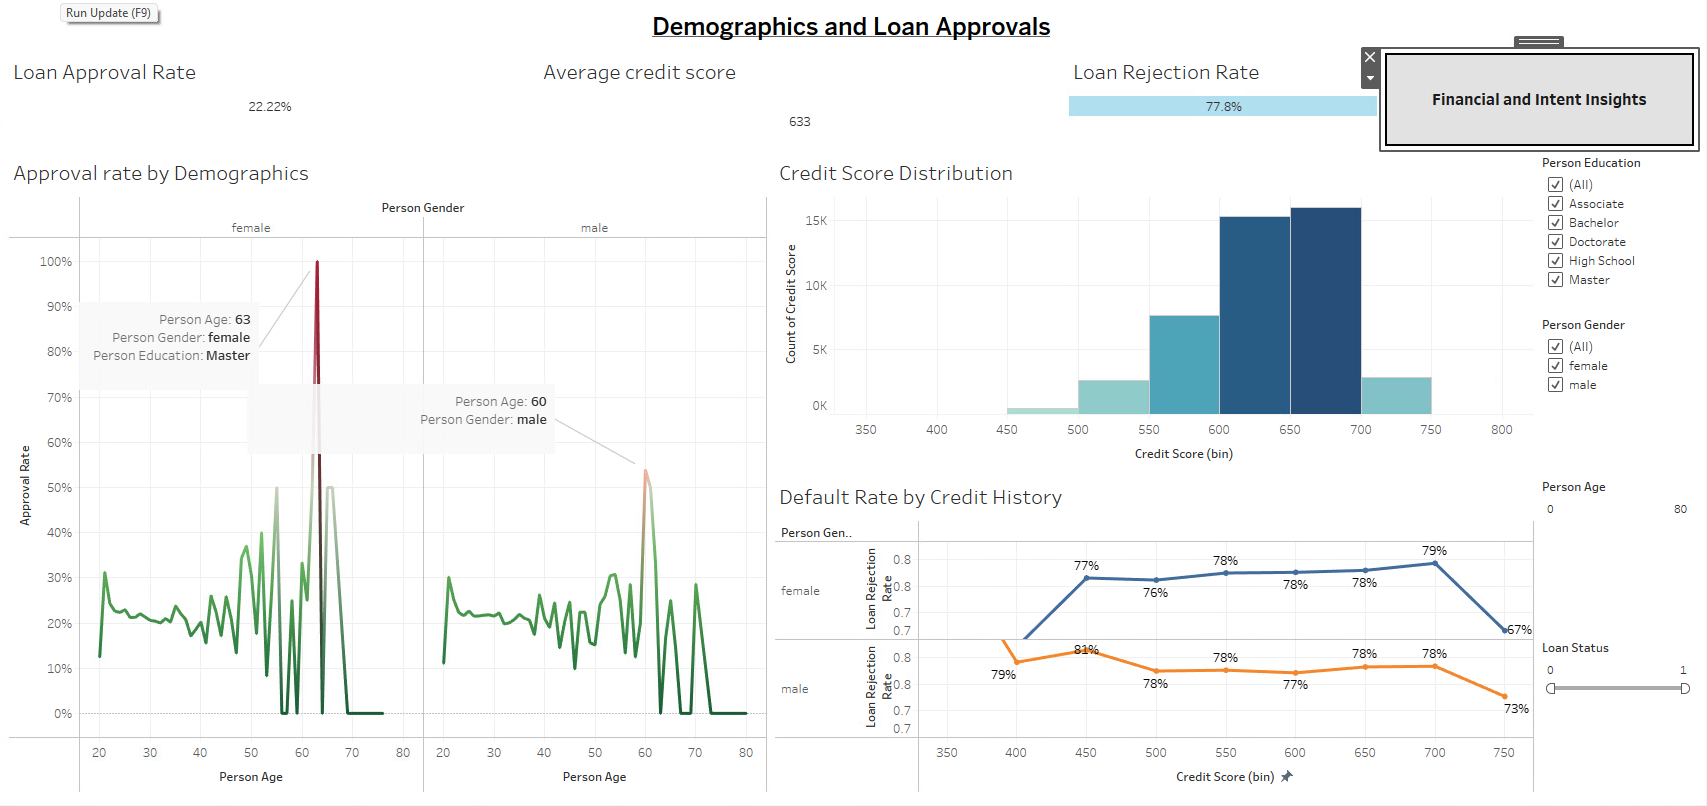

The page's visual inventory and layout, read from the dashboard file:
{"tool":"tableau","page":{"name":"Demographics and Loan Approvals","canvas":[1000,1000],"units":"permille","ordinal":1},"visuals":[{"type":"text","box":[4.8,9.4,990.3,54.6]},{"type":"worksheet","title":"Loan approval rate","mark":"Automatic","box":[4.8,64,309.9,125.2]},{"type":"worksheet","title":"Average credit score","mark":"Automatic","box":[314.7,64,309.9,125.2]},{"type":"worksheet","title":"Loan rejection rate","mark":"Automatic","box":[624.6,64,185.3,125.2]},{"type":"dashboard-object","box":[809.9,64,185.3,125.2]},{"type":"worksheet","title":"Approval rate by Demographics","mark":"Automatic","rows":["Calculation_3526881474463281152"],"cols":["person_gender","person_age"],"box":[4.8,189.2,446.8,801.4]},{"type":"worksheet","title":"Credit Score Distribution","mark":"Automatic","rows":["credit_score"],"cols":["Credit Score (bin)"],"box":[451.7,189.2,446.9,400.7]},{"type":"filter","title":"Approval rate by Demographics","param":"[federated.17kec6y0jpitml16ww1bw0nevjpz].[none:person_education:nk]","box":[898.6,189.2,96.6,200.3]},{"type":"filter","title":"Default Rate by Credit History","param":"[federated.17kec6y0jpitml16ww1bw0nevjpz].[none:person_gender:nk]","box":[898.6,389.5,96.6,200.3]},{"type":"worksheet","title":"Default Rate by Credit History","mark":"Line","rows":["person_gender","Calculation_3526881474485993481"],"cols":["Credit Score (bin)"],"box":[451.7,589.9,446.9,400.7]},{"type":"filter","title":"Default Rate by Credit History","param":"[federated.17kec6y0jpitml16ww1bw0nevjpz].[none:person_age:qk]","box":[898.6,589.9,96.6,200.3]},{"type":"filter","title":"Credit Score Distribution","param":"[federated.17kec6y0jpitml16ww1bw0nevjpz].[none:loan_status:qk]","box":[898.6,790.2,96.6,200.4]}]}

Visuals, with their boxes on the dashboard's canvas, which has no fixed pixel size, in thousandths of its width and height (x1, y1, x2, y2). These are canvas units, not pixel positions in the 1707x806 screenshot, which may show the page scaled, cropped or inside an application window:
text: detection(5, 9, 995, 64)
"Loan approval rate" worksheet: detection(5, 64, 315, 189)
"Average credit score" worksheet: detection(315, 64, 625, 189)
"Loan rejection rate" worksheet: detection(625, 64, 810, 189)
dashboard-object: detection(810, 64, 995, 189)
"Approval rate by Demographics" worksheet: detection(5, 189, 452, 991)
"Credit Score Distribution" worksheet: detection(452, 189, 899, 590)
"Approval rate by Demographics" filter: detection(899, 189, 995, 390)
"Default Rate by Credit History" filter: detection(899, 390, 995, 590)
"Default Rate by Credit History" worksheet (Line marks): detection(452, 590, 899, 991)
"Default Rate by Credit History" filter: detection(899, 590, 995, 790)
"Credit Score Distribution" filter: detection(899, 790, 995, 991)
